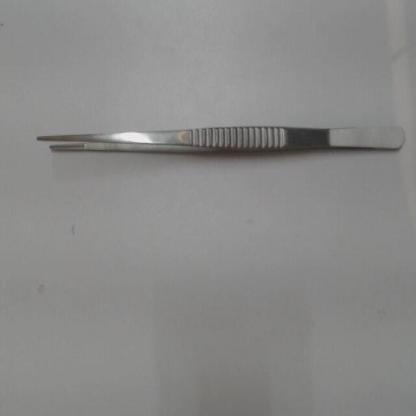DeBakey Dissector: (23, 91, 413, 188)
